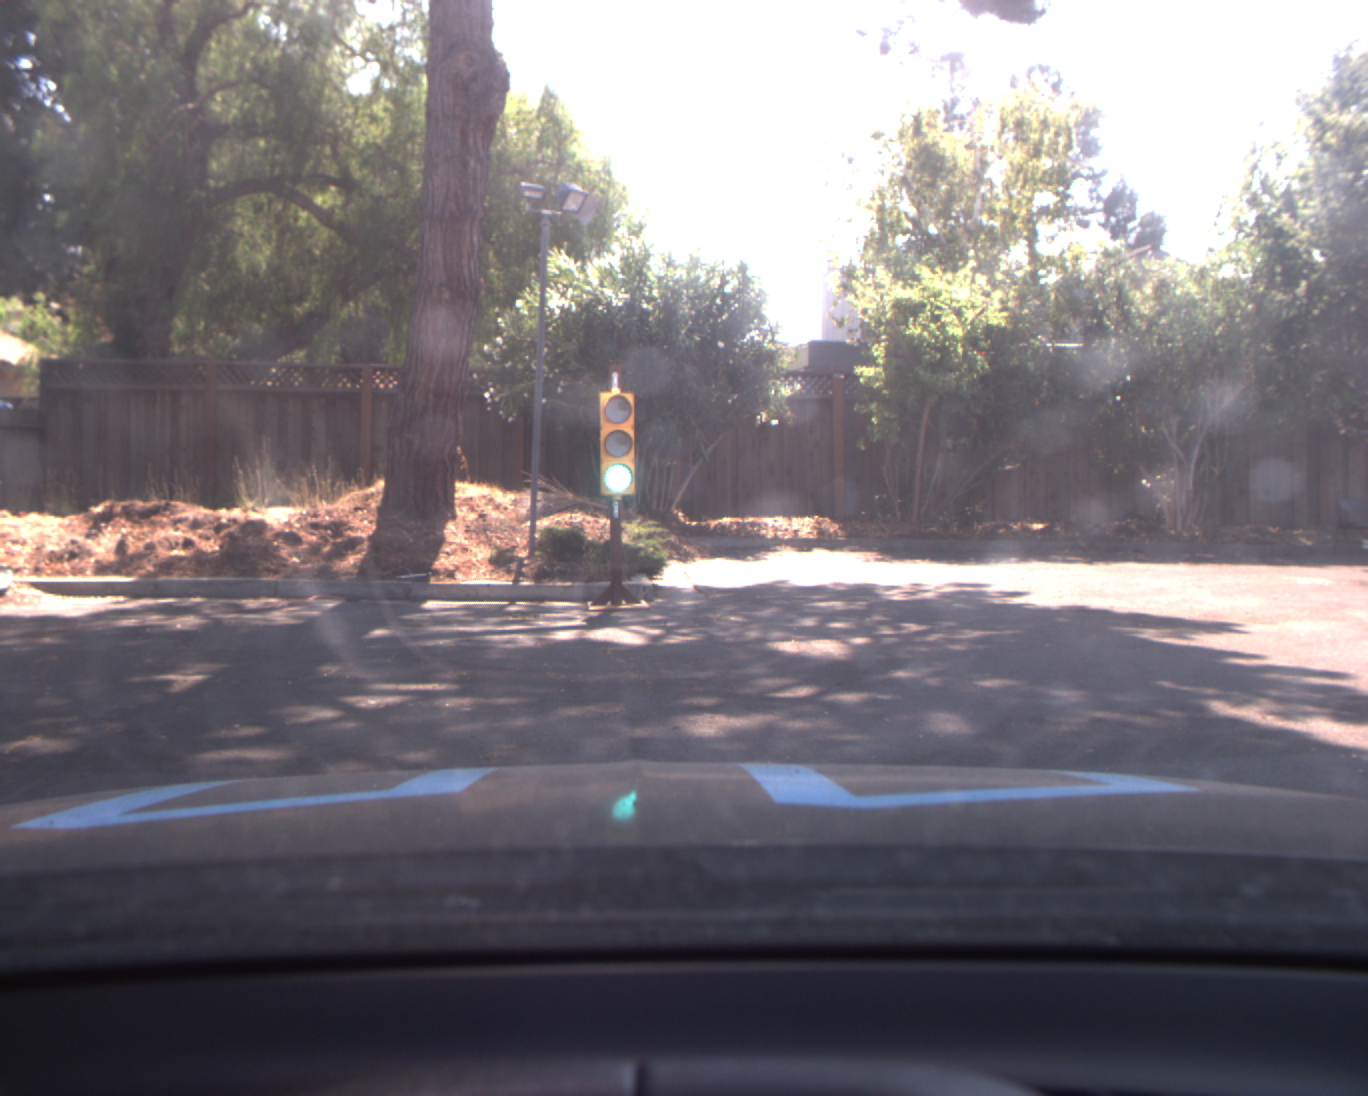green: (594, 385, 640, 502)
